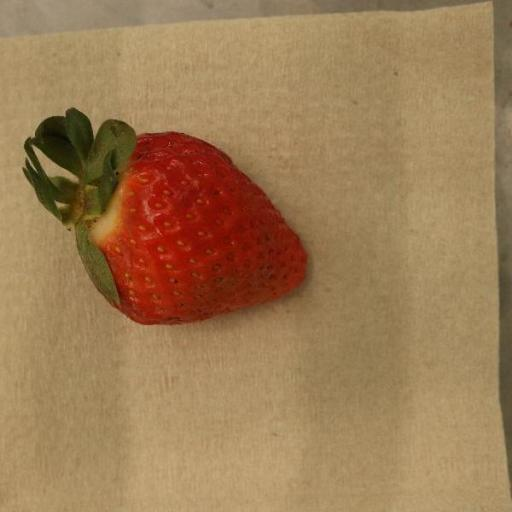Strawberry: (23, 108, 308, 326)
